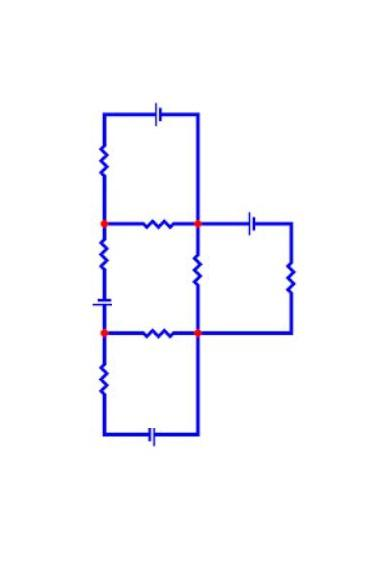resistor: (125, 205, 185, 243), (273, 239, 305, 300), (83, 131, 113, 190), (131, 311, 180, 343)
